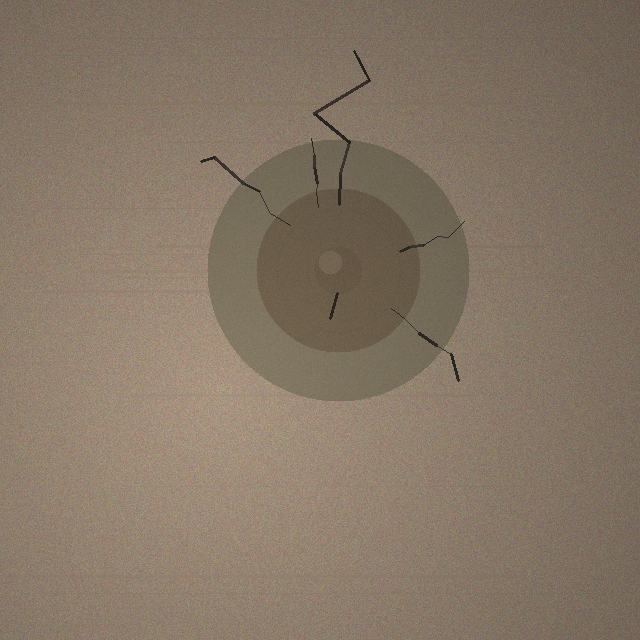crack: (207, 139, 469, 401)
